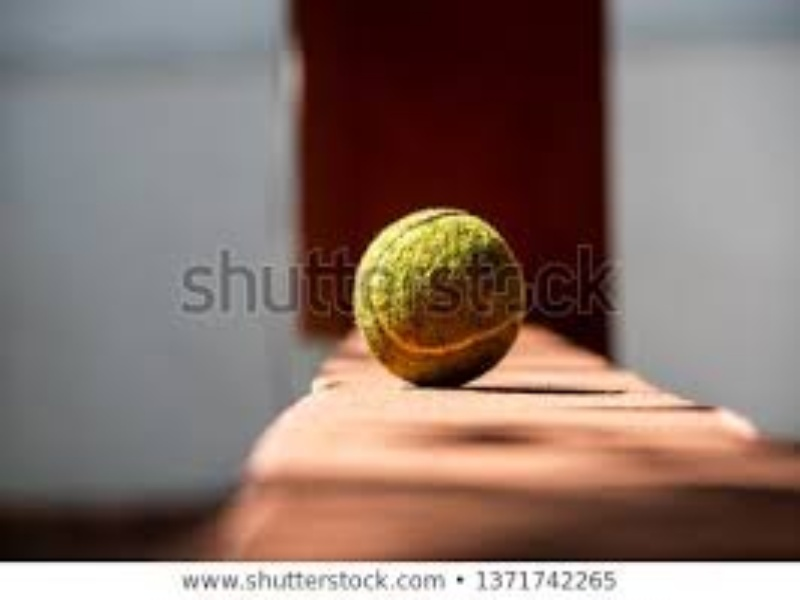tennis ball: (335, 189, 560, 385)
